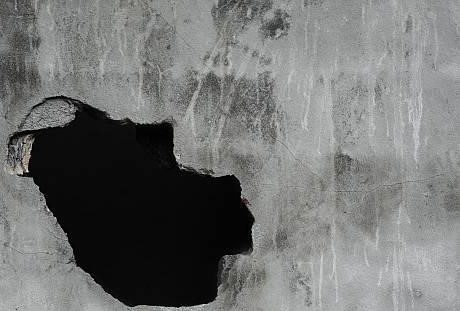Crack: (143, 1, 215, 75), (258, 173, 445, 194), (266, 129, 322, 180), (1, 242, 54, 256)
Spalling: (4, 94, 256, 311)
